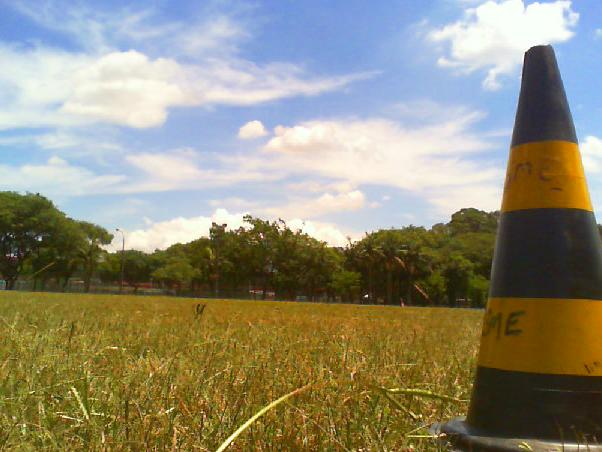0 cone: (428, 44, 602, 452)
